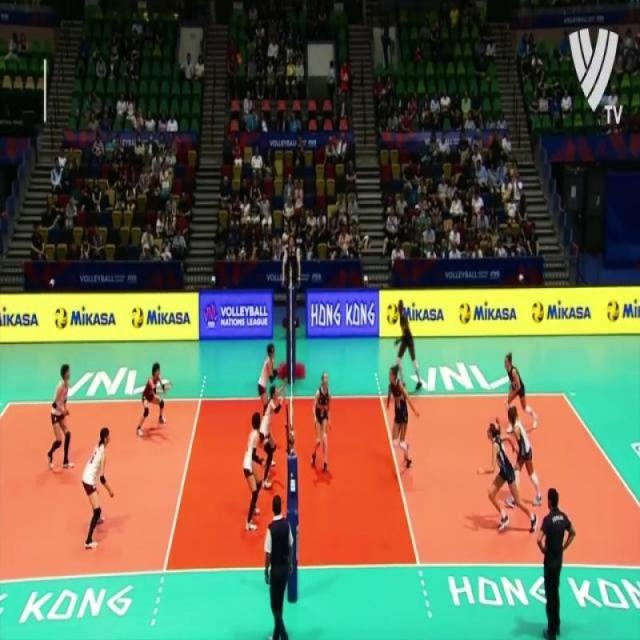volleyball: (53, 304, 68, 332), (606, 300, 621, 324), (132, 304, 144, 330), (532, 300, 545, 324), (385, 302, 399, 324), (459, 302, 472, 324), (361, 234, 372, 252)
